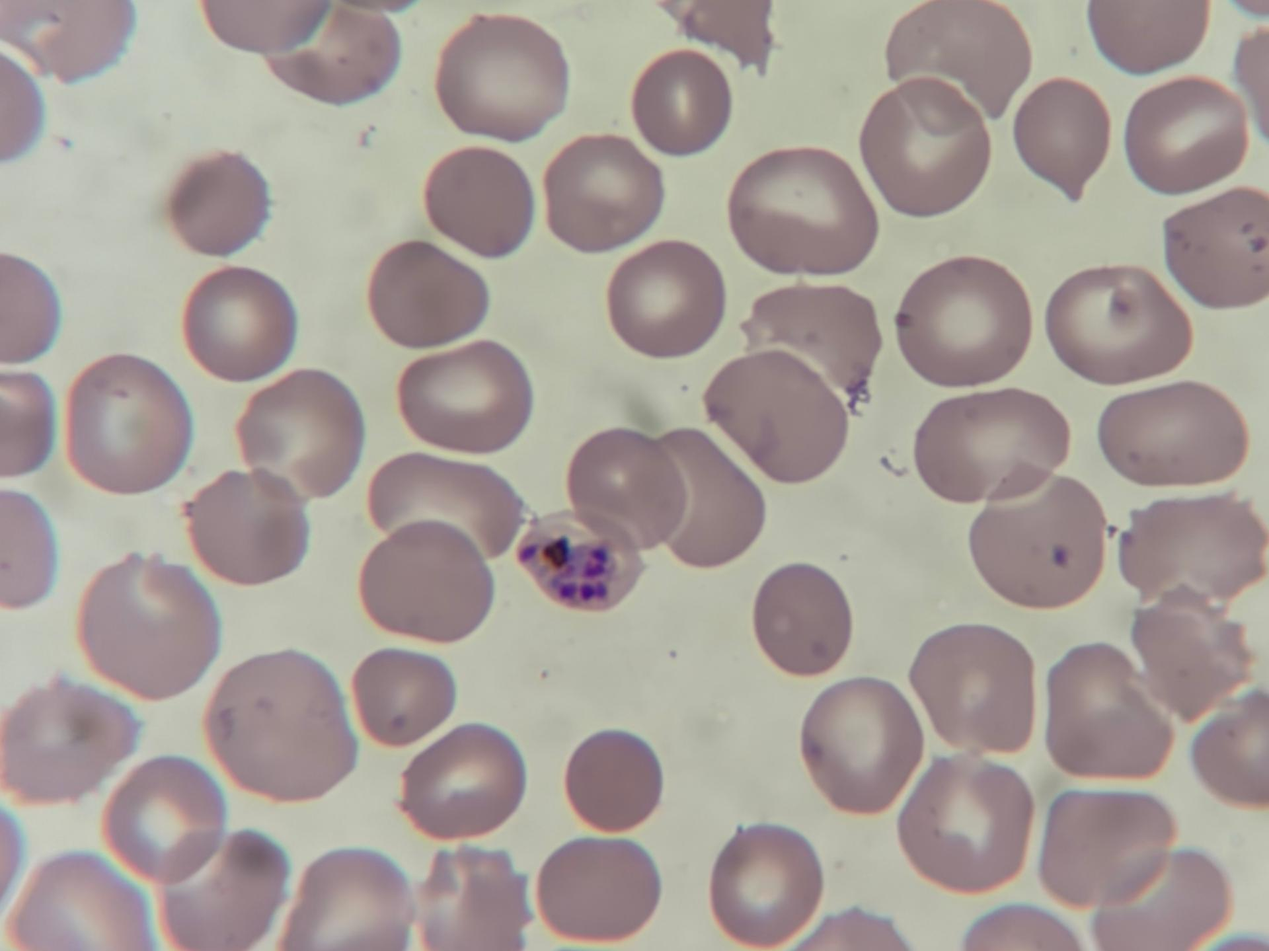Infected: (519, 509, 642, 613)
Uninfected: (204, 651, 357, 800), (79, 553, 215, 697), (703, 349, 850, 480), (969, 475, 1106, 609), (860, 78, 993, 215), (897, 756, 1031, 889), (730, 150, 873, 274), (912, 391, 1064, 504), (894, 260, 1032, 384), (358, 521, 496, 644), (68, 357, 190, 496), (238, 370, 366, 502), (908, 626, 1036, 758), (3, 676, 136, 803), (1116, 490, 1262, 605), (886, 1, 1032, 115), (369, 451, 523, 558), (436, 15, 567, 140), (1044, 645, 1167, 778), (101, 757, 226, 887), (1047, 267, 1186, 381), (800, 679, 919, 812), (1037, 788, 1168, 908), (1128, 597, 1251, 723), (739, 284, 876, 397), (1098, 382, 1244, 487), (396, 340, 531, 453), (158, 830, 287, 948), (566, 429, 689, 552), (184, 468, 311, 585), (396, 724, 523, 840), (650, 431, 761, 563), (1124, 75, 1247, 194), (9, 852, 155, 949), (277, 847, 412, 950), (266, 7, 401, 107), (370, 240, 494, 348), (606, 240, 722, 355), (543, 135, 659, 249), (710, 824, 822, 942), (1163, 185, 1269, 307), (1095, 851, 1226, 949), (422, 147, 537, 258), (535, 837, 656, 942), (185, 270, 293, 382), (415, 844, 528, 950), (1013, 77, 1110, 200), (753, 564, 851, 673), (632, 50, 732, 154), (167, 156, 268, 257), (352, 648, 455, 747), (564, 730, 662, 833), (14, 1, 132, 83), (1191, 695, 1268, 807), (1091, 1, 1209, 73)
